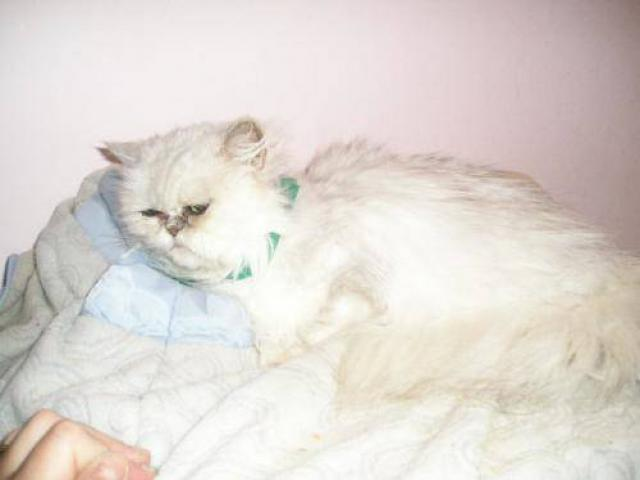cat: (56, 116, 640, 480)
